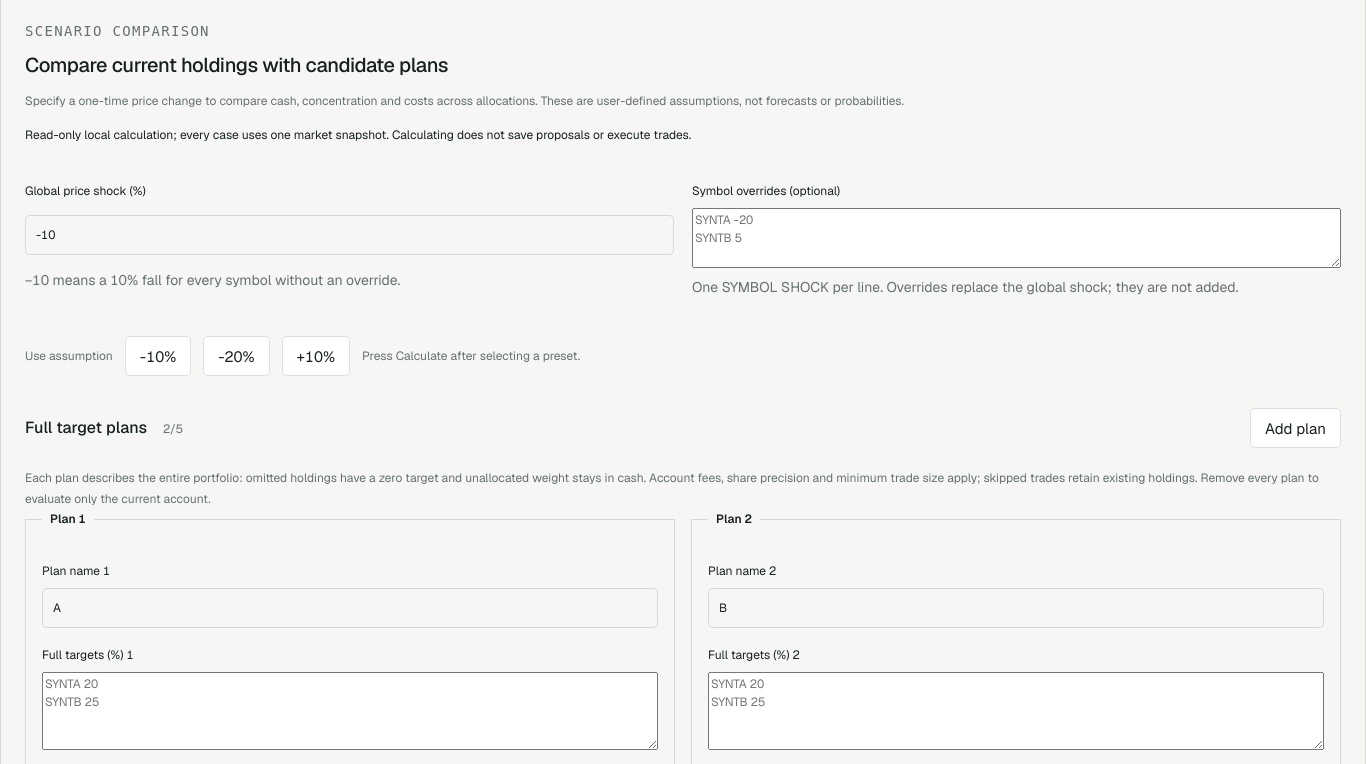
it: paper scenario comparison › keeps presets read-only until calculate and submits explicit full targets and overrides
Step 1. Click the button "-20%" → click(236, 356), box [203, 336, 270, 376]
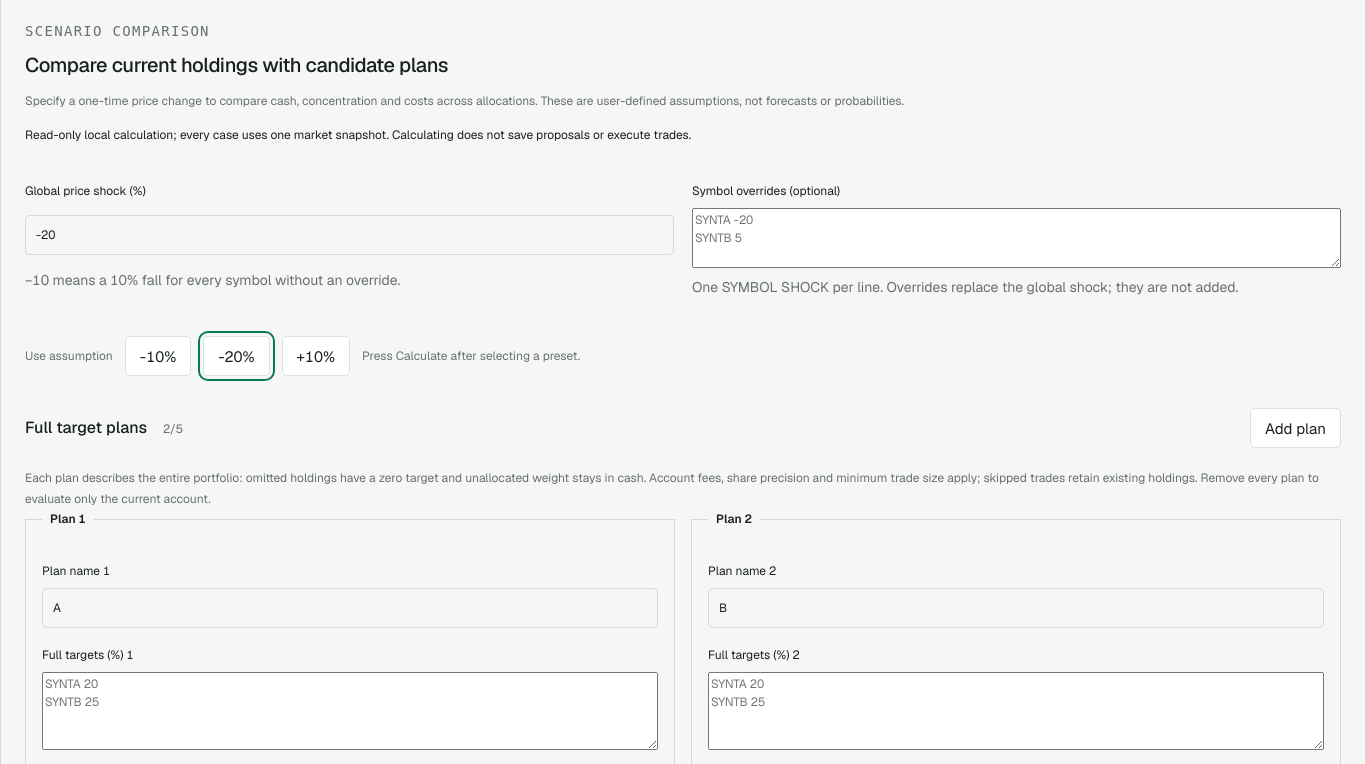
Step 2. Type "synta 20" into the text box labelled "Full targets (%) 1" → (350, 711), box [42, 672, 658, 750]
(page scrolled)
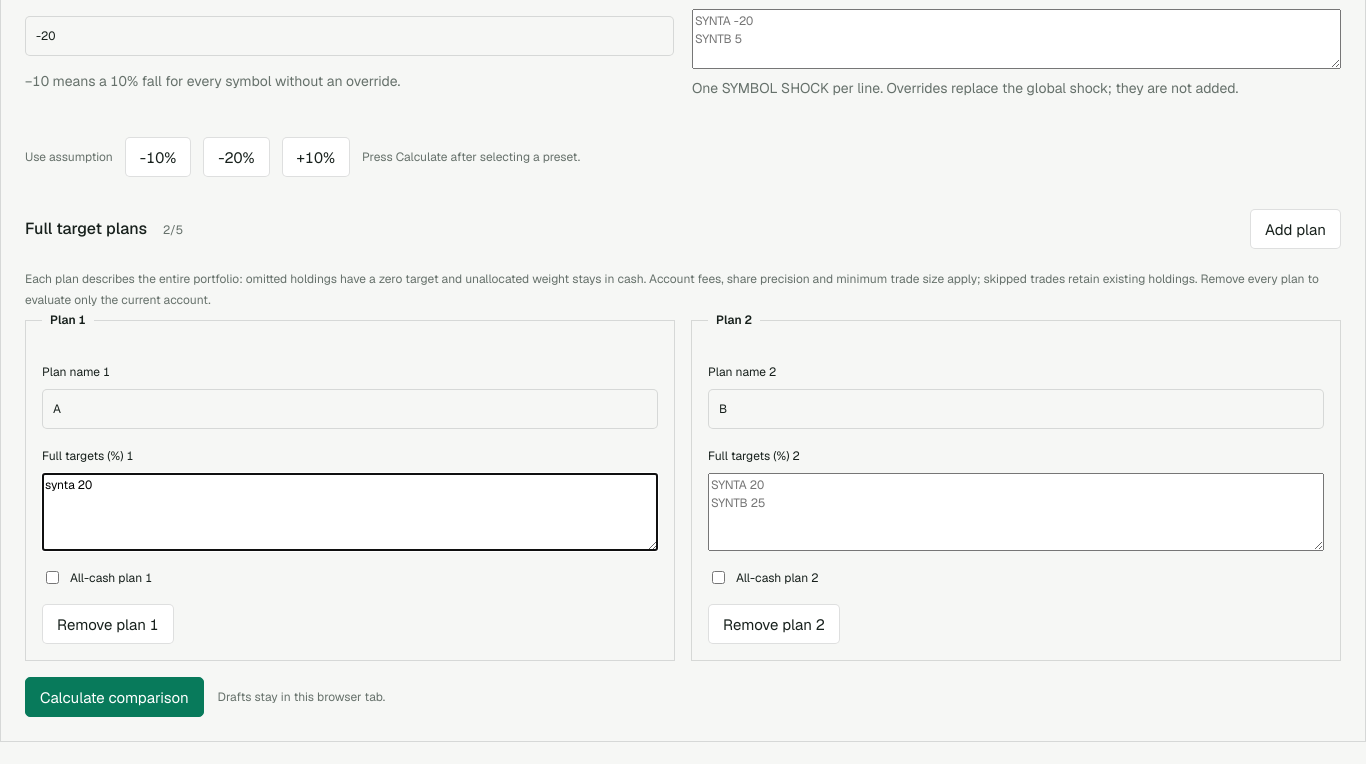
Step 3. Click the checkbox labelled "All-cash plan 2" → click(718, 578), box [712, 570, 725, 585]
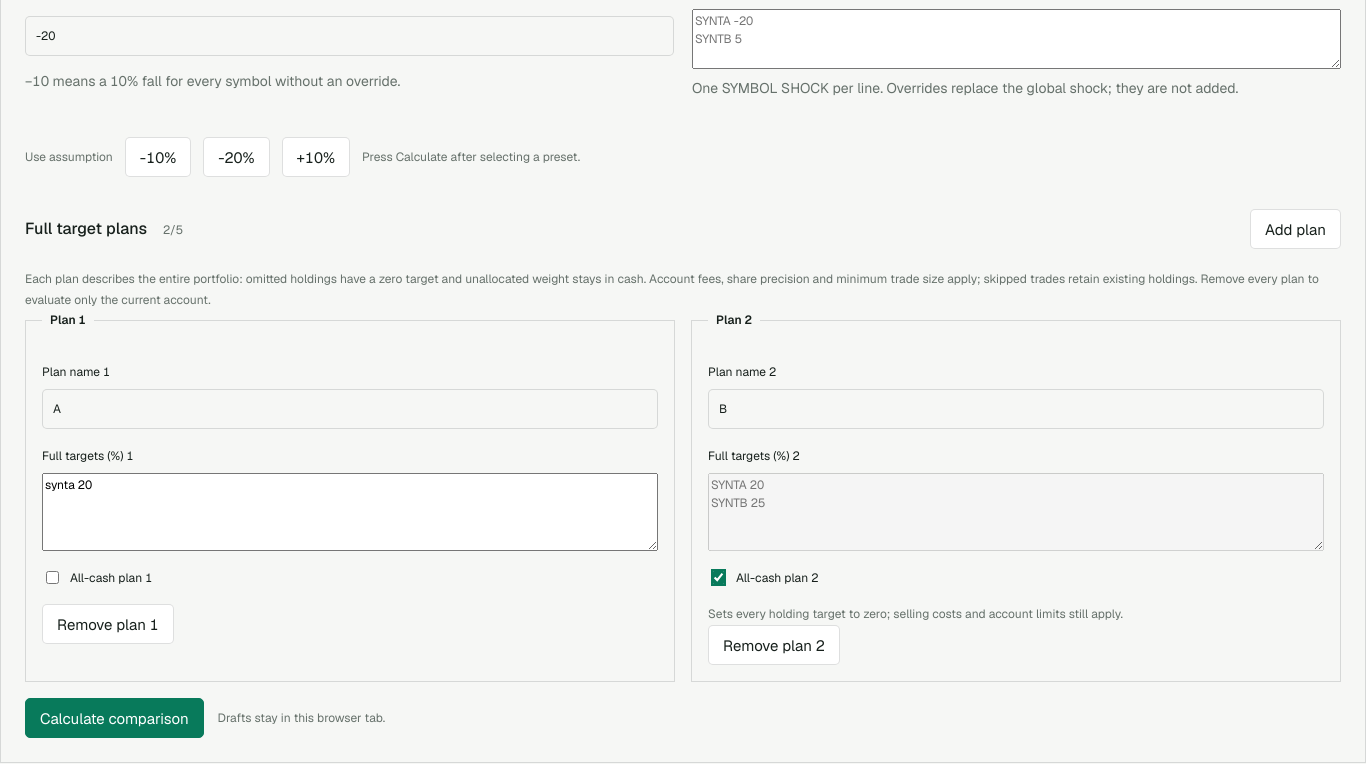
Step 4. Type "synta -30" into the text box labelled "Symbol overrides (optional)" → (1016, 39), box [692, 9, 1341, 69]
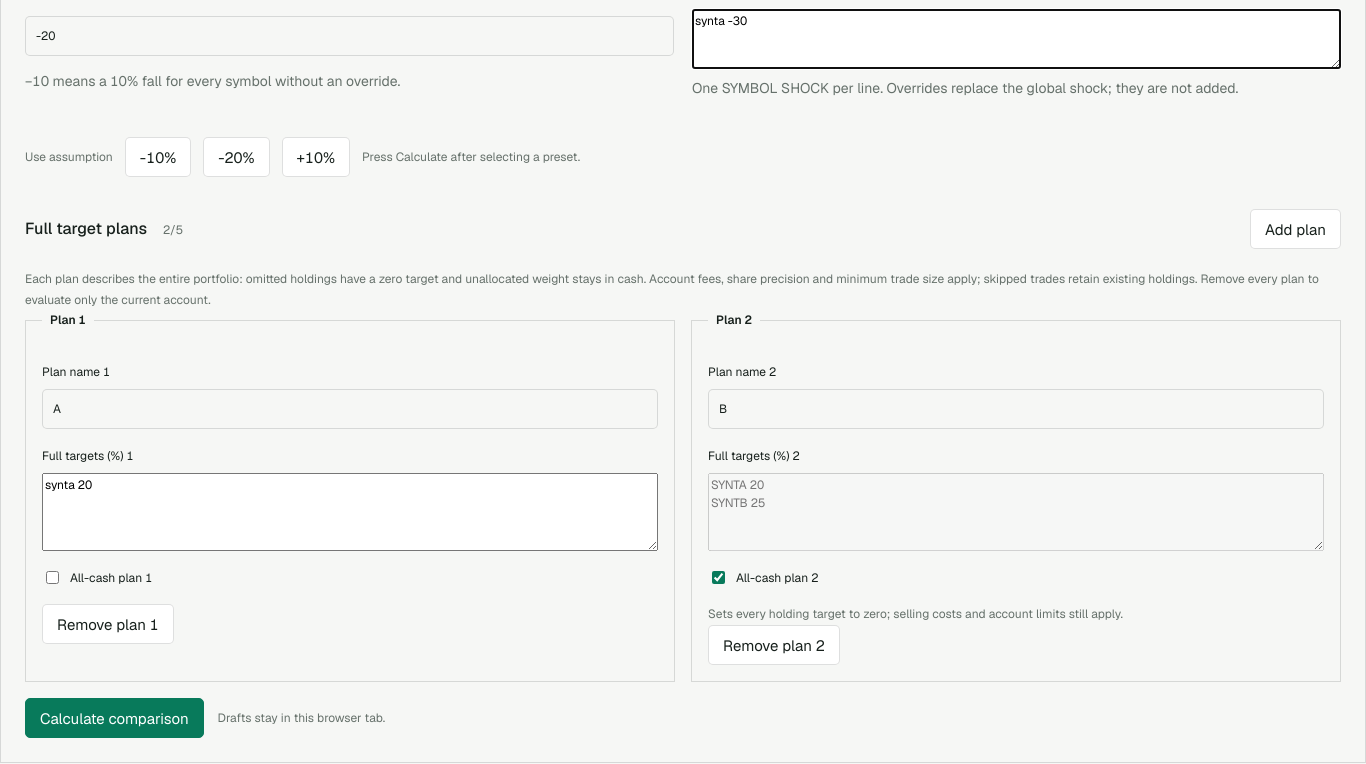
Step 5. Click the button "Calculate comparison" → click(114, 718), box [25, 698, 204, 738]
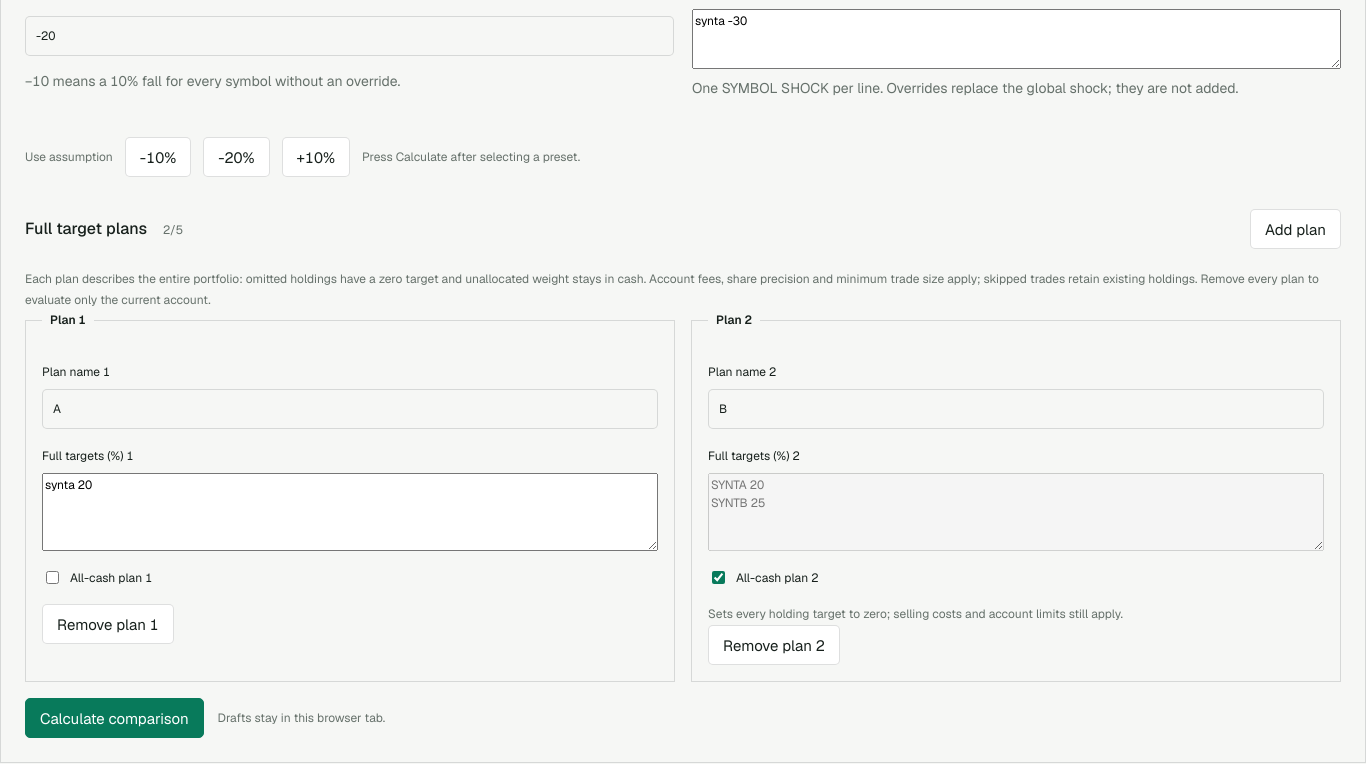
Step 6. Click the button "+10%" → click(316, 157), box [282, 137, 350, 177]
(page scrolled)
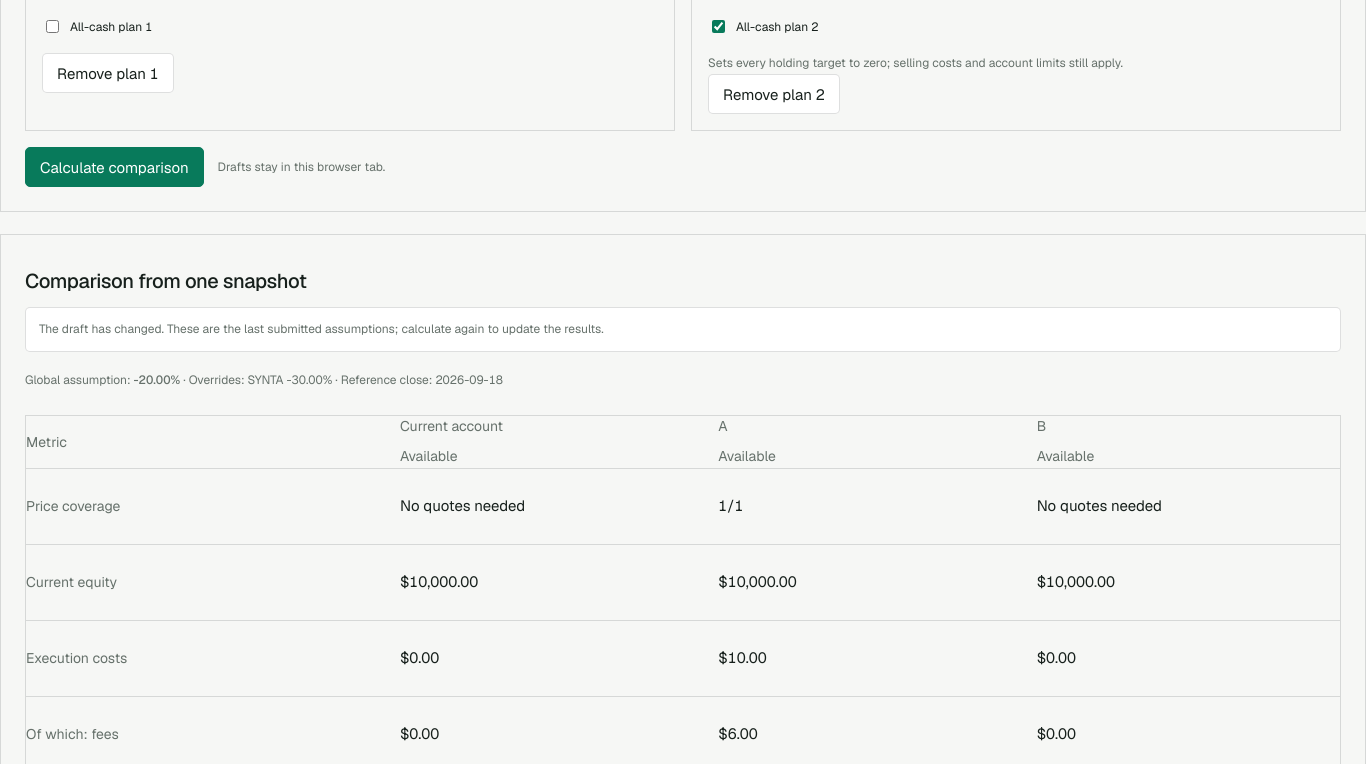
Now the text "SYNTA -30.00%" is shown, box [248, 372, 332, 388]
Now the text "These are the last submitted assumptions" is shown, box [39, 321, 604, 337]
